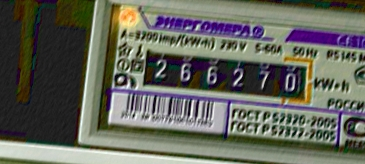0: (284, 71, 299, 92)
2: (153, 58, 170, 79), (231, 66, 247, 88)
6: (179, 61, 194, 83), (206, 65, 221, 86)
7: (257, 69, 271, 89)
screen: (134, 38, 322, 111)
